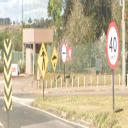preferencia: (67, 46, 73, 66)
speed_limit_40: (106, 20, 120, 70)
